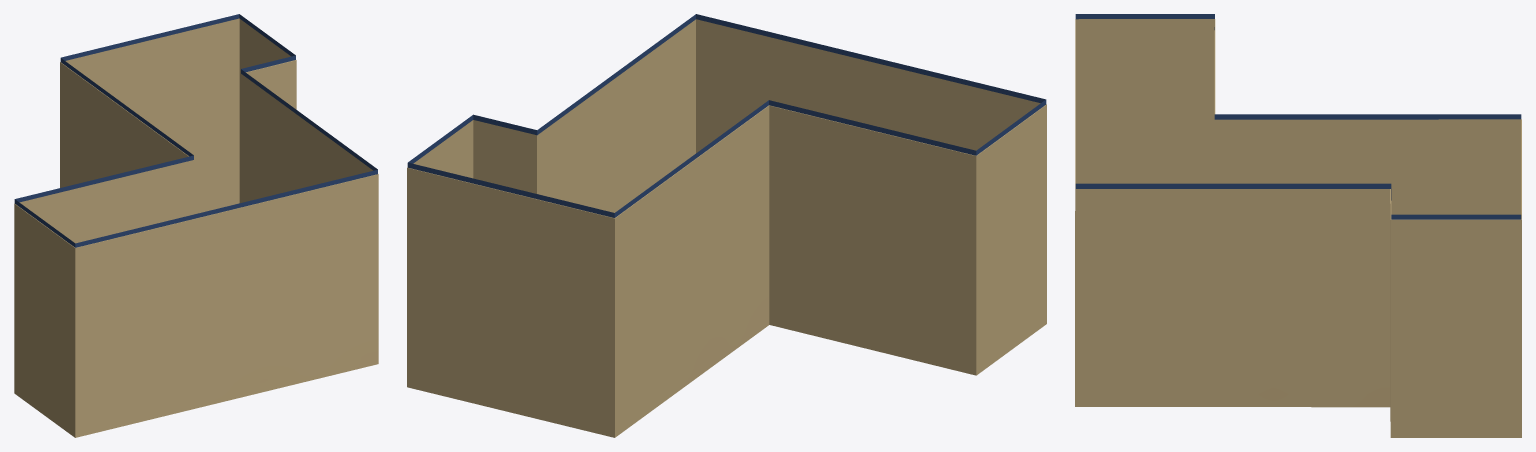
Rendered from buildinglvl2.fbx.
3 views of the same model, side by side, from view 1: azimuth 30°, elevation 25°; view 2: azimuth 150°, elevation 25°; view 3: azimuth 270°, elevation 25° (orthographic). The views are drawn at different scales.
Visible parts, largest first — view 1: buildinglvl2; view 2: buildinglvl2; view 3: buildinglvl2.
Part boxes in pixels (<box>): buildinglvl2: <box>14,14,378,437</box>; buildinglvl2: <box>407,14,1046,437</box>; buildinglvl2: <box>1075,14,1521,437</box>.
Bounding box in the file's own units: 17.56 × 9.09 × 16.48.
2 materials, 1 textured.
